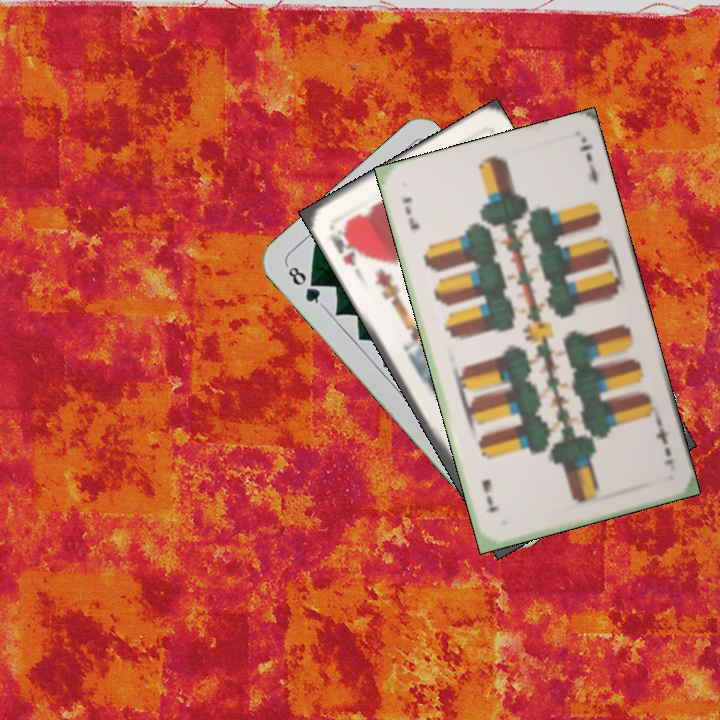E7: (652, 416, 677, 469), (398, 192, 422, 233)
G8: (282, 261, 326, 309)
HK: (325, 223, 364, 269)
